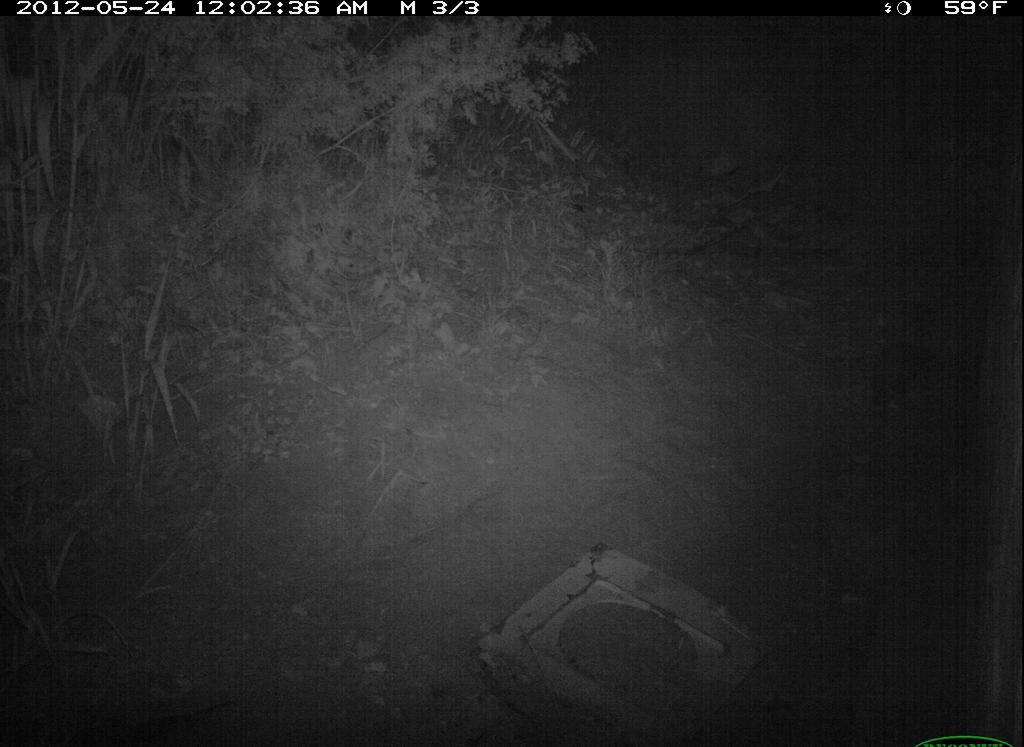opossum: (853, 303, 952, 424)
